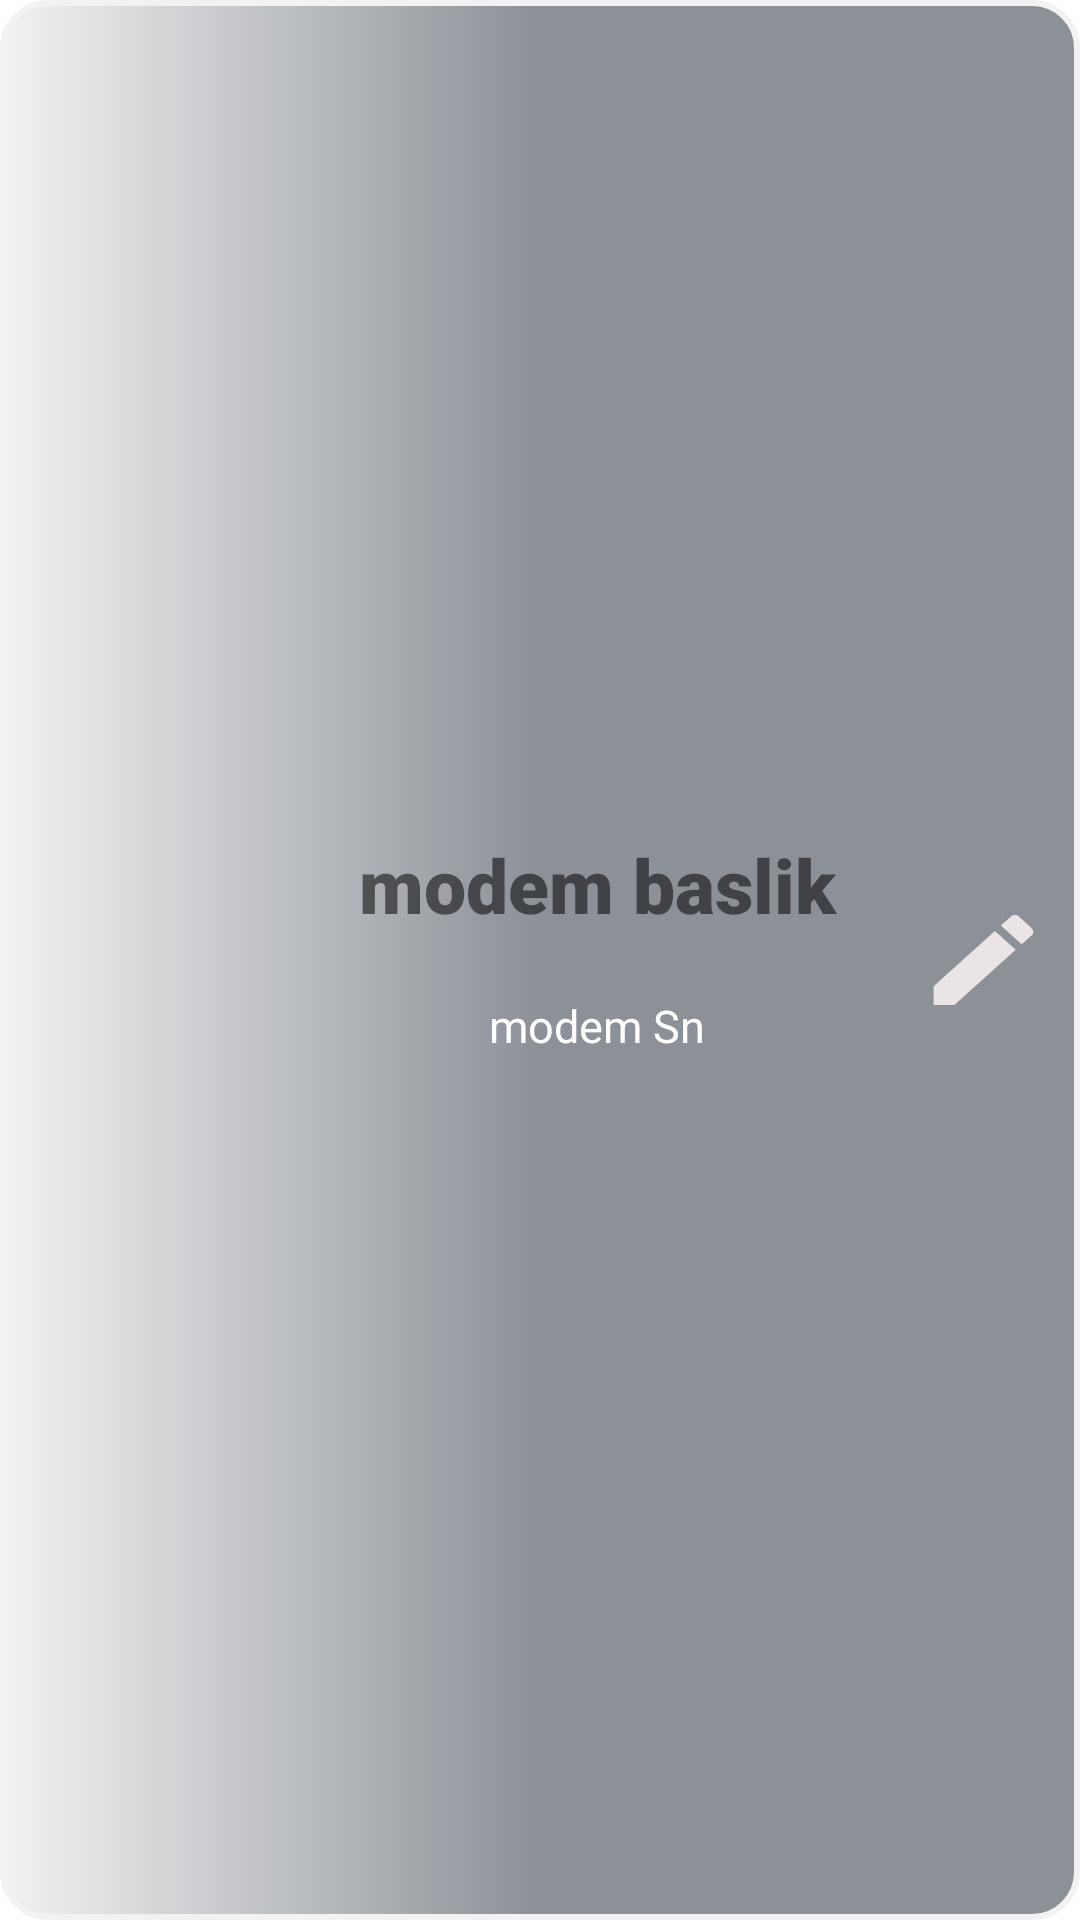

Named icons in this screenshot (1080px×1920px) and their bounding boxes, (x1=x1, y1=y1, x2=x2, y2=y2):
edit: (x1=933, y1=915, x2=1034, y2=1005)
